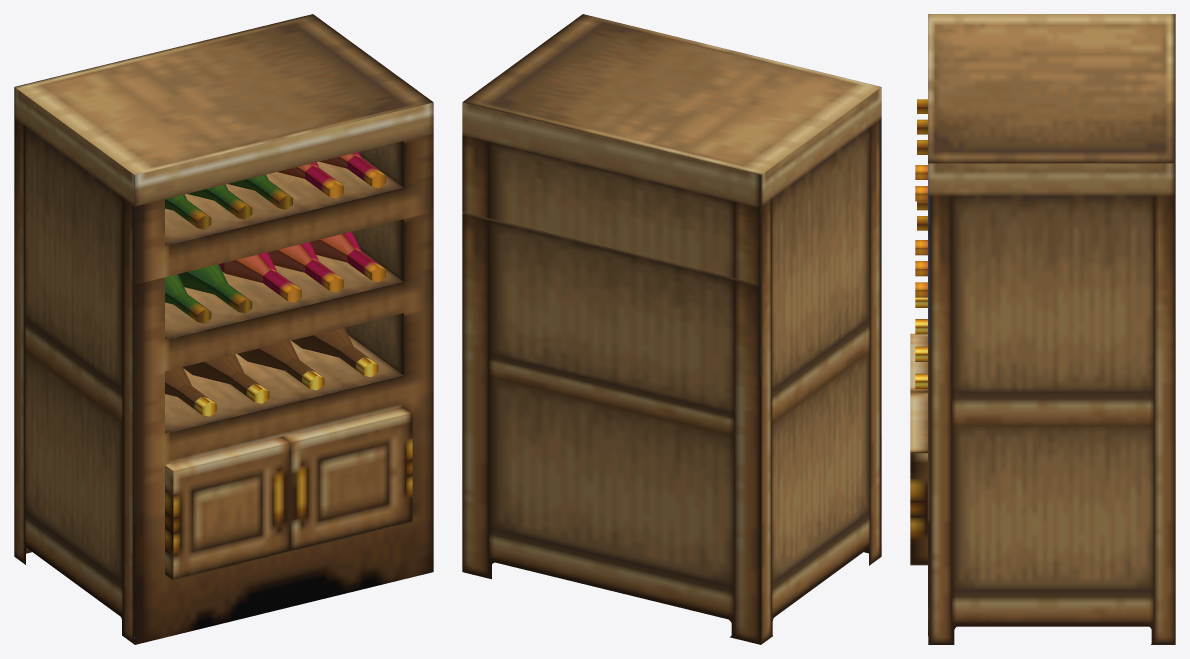
File: Inside_Poly_Shelf_04.obj
3 renders of one model, left to right at view 1: azimuth 30°, elevation 25°; view 2: azimuth 150°, elevation 25°; view 3: azimuth 270°, elevation 25°, orthographic. The views are drawn at different scales.
Parts seen in each view (by area): view 1: Cube, Cube.002, Items; view 2: Cube, Cube.002; view 3: Cube, Cube.002, Items.
Boxes of the visible parts, box(x1,y1,x2,y2) form: Cube: box(14, 14, 433, 378); Cube.002: box(14, 290, 433, 644); Items: box(165, 152, 386, 416); Cube: box(462, 14, 881, 378); Cube.002: box(462, 290, 881, 644); Cube: box(928, 14, 1175, 371); Cube.002: box(910, 333, 1175, 644); Items: box(915, 99, 927, 388).
Size of the model in its own units: 1 by 1.5 by 0.75.
1 material, 1 textured.
